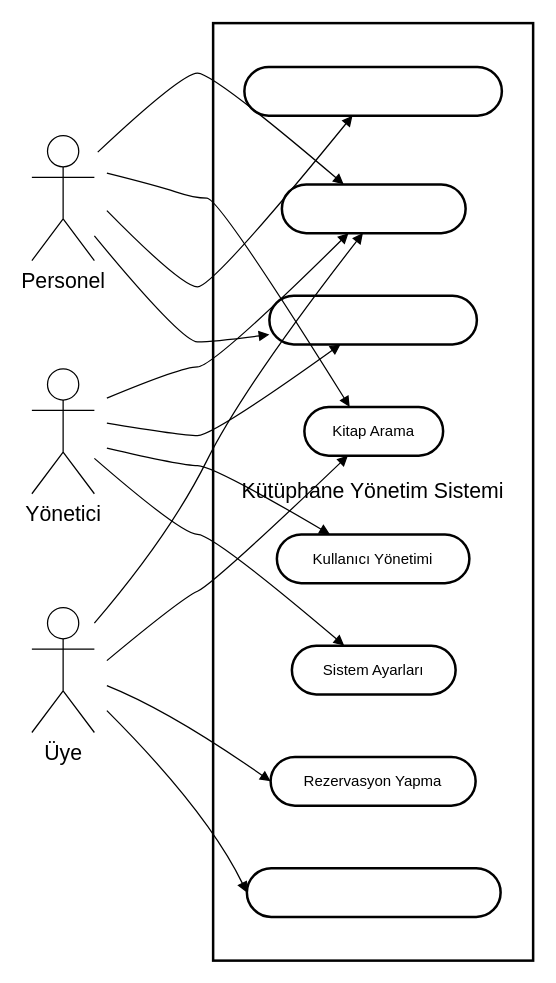
The diagram is 556 pixels wide and 983 high, and some of its shapes have lost their labels. Here are the shapes that lost their labels. From the top down, the box of each, then its label:
(242, 65, 502, 116): Kitap Ödünç Verme/Alma
(280, 182, 466, 234): Sisteme Giriş Yap
(268, 294, 478, 345): Kitap Ekleme/Silme
(245, 866, 501, 918): Bildirimleri Görüntüleme
